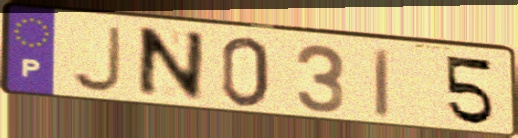0: (217, 34, 273, 110)
3: (293, 42, 347, 114)
5: (443, 53, 497, 127)
I: (372, 46, 392, 121)
J: (67, 24, 124, 95)
N: (133, 24, 208, 104)
